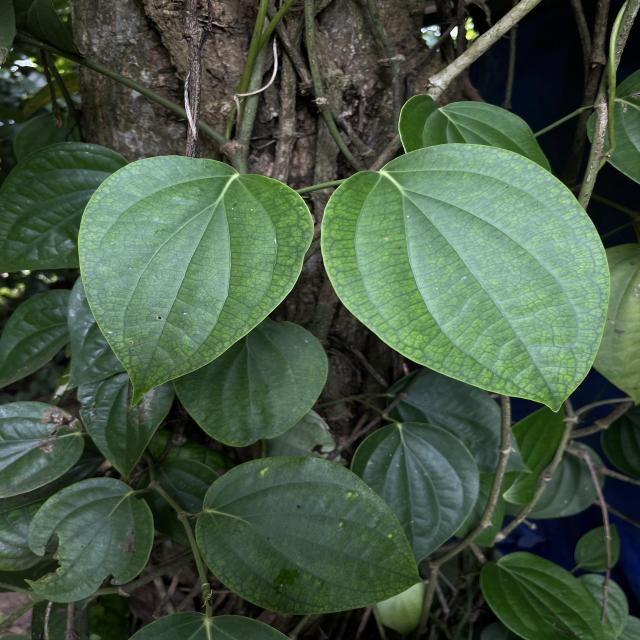Piper nigrum: (318, 140, 612, 414), (76, 153, 320, 410)
